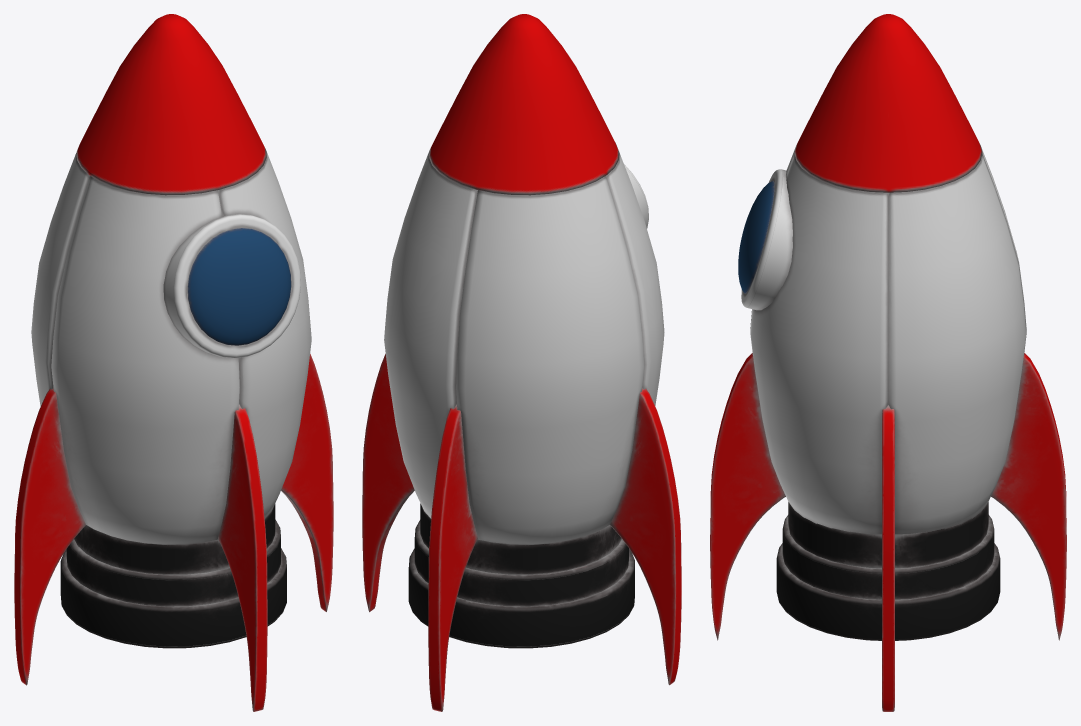
File: rocket.dae
The picture shows the model from 3 angles, left to right: view 1: azimuth 30°, elevation 25°; view 2: azimuth 150°, elevation 25°; view 3: azimuth 270°, elevation 25°; orthographic projection.
Visible parts, largest first — view 1: Body, Wings, Tip, Engine, Window-001, Window; view 2: Body, Wings, Tip, Engine; view 3: Body, Wings, Tip, Engine, Window, Window-001.
Boxes of the visible parts, left/top/right/bottom form: Body: left=31, top=150, right=311, bottom=544; Wings: left=14, top=354, right=333, bottom=711; Tip: left=76, top=14, right=266, bottom=195; Engine: left=60, top=504, right=286, bottom=648; Window-001: left=187, top=228, right=291, bottom=345; Window: left=163, top=213, right=300, bottom=358; Body: left=384, top=150, right=664, bottom=544; Wings: left=362, top=354, right=681, bottom=711; Tip: left=429, top=14, right=619, bottom=195; Engine: left=408, top=503, right=634, bottom=648; Body: left=750, top=147, right=1026, bottom=534; Wings: left=710, top=353, right=1066, bottom=711; Tip: left=794, top=14, right=982, bottom=192; Engine: left=776, top=502, right=1000, bottom=640; Window: left=741, top=169, right=792, bottom=310; Window-001: left=738, top=181, right=774, bottom=293.
Bounding box in the file's own units: 1.63 × 3.12 × 1.63.
Materials: 1 (1 with a texture image).
